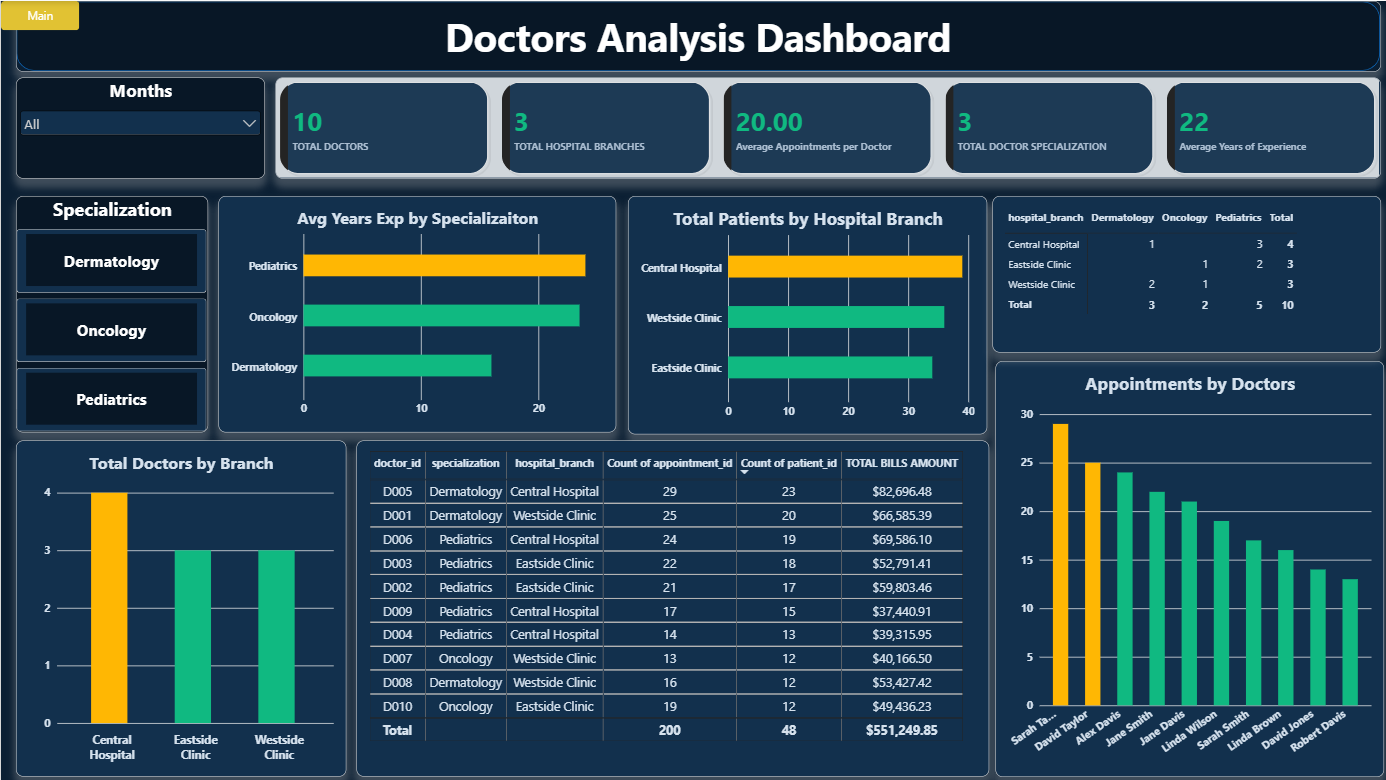

What the dashboard file says about the page in this screenshot:
{"tool":"powerbi","page":{"name":"DOCTORS","canvas":[1920,1080],"ordinal":1},"visuals":[{"type":"barChart","title":"Avg Years Exp by Specializaiton","fields":{"Category":["public doctors.specialization"],"Y":["Table.Average Years of Experience"]},"box":[301.9,270,550.6,327.4],"z":0},{"type":"advancedSlicerVisual","title":"Specialization","fields":{"Values":["public doctors.specialization"]},"box":[21.3,270,265.7,327.4],"z":1000},{"type":"columnChart","title":"Total Doctors by Branch","fields":{"Category":["public doctors.hospital_branch"],"Y":["CountNonNull(public doctors.doctor_id)"]},"box":[21.3,608,457.1,465.6],"z":2000},{"type":"barChart","title":"Total Patients by Hospital Branch","fields":{"Category":["public doctors.hospital_branch"],"Y":["Count(public appointments.patient_id)"]},"box":[867.4,270,497.5,330.3],"z":3000},{"type":"columnChart","title":"Appointments by Doctors","fields":{"Category":["public doctors.doc_full_name"],"Y":["CountNonNull(public appointments.appointment_id)"]},"box":[1377.6,497.5,537.9,576.1],"z":4000},{"type":"pivotTable","fields":{"Columns":["public doctors.specialization"],"Rows":["public doctors.hospital_branch"],"Values":["Count(public doctors.doctor_id)"]},"box":[1373.4,270,537.9,216.9],"z":5000},{"type":"tableEx","fields":{"Values":["public doctors.doctor_id","public doctors.specialization","public doctors.hospital_branch","public appointments.appointment_id","public appointments.patient_id","Table.TOTAL BILLS AMOUNT"]},"box":[493.2,608,875.9,465.6],"z":6000},{"type":"shape","box":[21.3,0,1890,97.8],"z":7000},{"type":"slicer","title":"Months","fields":{"Values":["public bills.bill_date.Variation.Date Hierarchy.Quarter","public bills.bill_date.Variation.Date Hierarchy.Month"]},"box":[21.3,106.3,344.4,140.3],"z":8000},{"type":"cardVisual","fields":{"Data":["Table.TOTAL DOCTORS","Table.TOTAL HOSPITAL BRANCHES","Table.Average Appointments per Doctor","Table.TOTAL DOCTOR SPECIALIZATION","Table.Average Years of Experience"]},"box":[380.6,106.3,1530.7,140.3],"z":9000},{"type":"actionButton","box":[0,0,108.4,40.4],"z":10000}]}

Visuals, with their boxes in screenshot pixels (x1, y1, x2, y2), scaled from the page's 1920x1080 canvas onto the 1386x780 screenshot:
"Avg Years Exp by Specializaiton" barChart: crop(218, 195, 615, 431)
"Specialization" advancedSlicerVisual: crop(15, 195, 207, 431)
"Total Doctors by Branch" columnChart: crop(15, 439, 345, 775)
"Total Patients by Hospital Branch" barChart: crop(626, 195, 985, 434)
"Appointments by Doctors" columnChart: crop(994, 359, 1383, 775)
pivotTable - public doctors.specialization x public doctors.hospital_branch: crop(991, 195, 1380, 352)
tableEx - public doctors.doctor_id x public doctors.specialization: crop(356, 439, 988, 775)
shape: crop(15, 0, 1380, 71)
"Months" slicer: crop(15, 77, 264, 178)
cardVisual - Table.TOTAL DOCTORS x Table.TOTAL HOSPITAL BRANCHES: crop(275, 77, 1380, 178)
actionButton: crop(0, 0, 78, 29)
